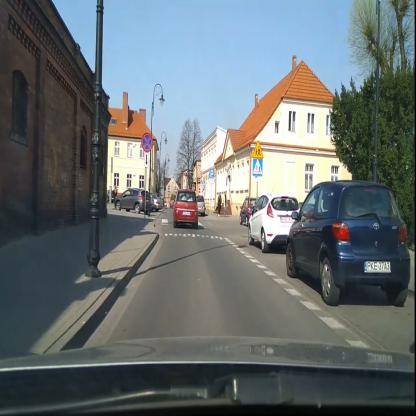cars: (286, 180, 410, 308), (249, 193, 300, 252), (173, 190, 198, 228), (115, 188, 149, 212), (240, 197, 259, 225), (195, 194, 205, 216)
